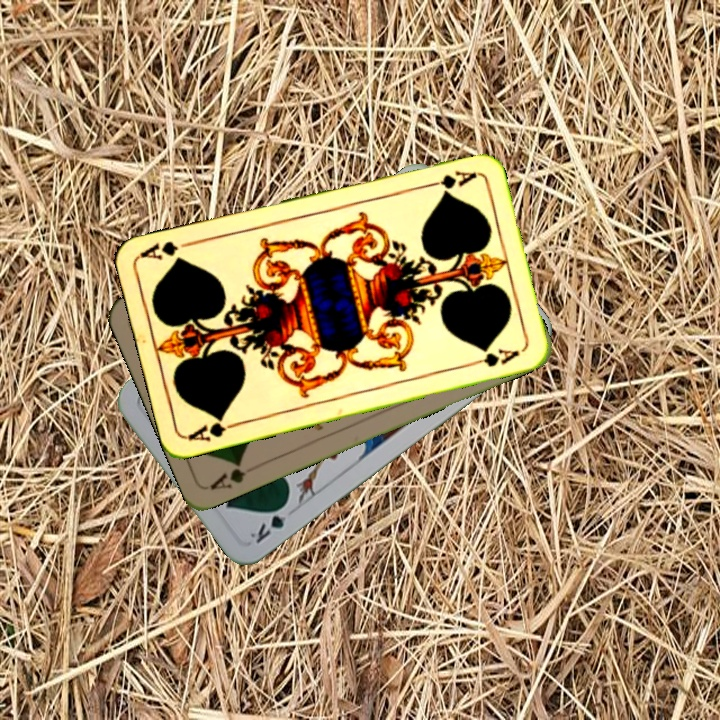GA: (185, 412, 243, 444), (206, 456, 249, 493), (420, 166, 479, 192)
GK: (246, 498, 291, 547)
